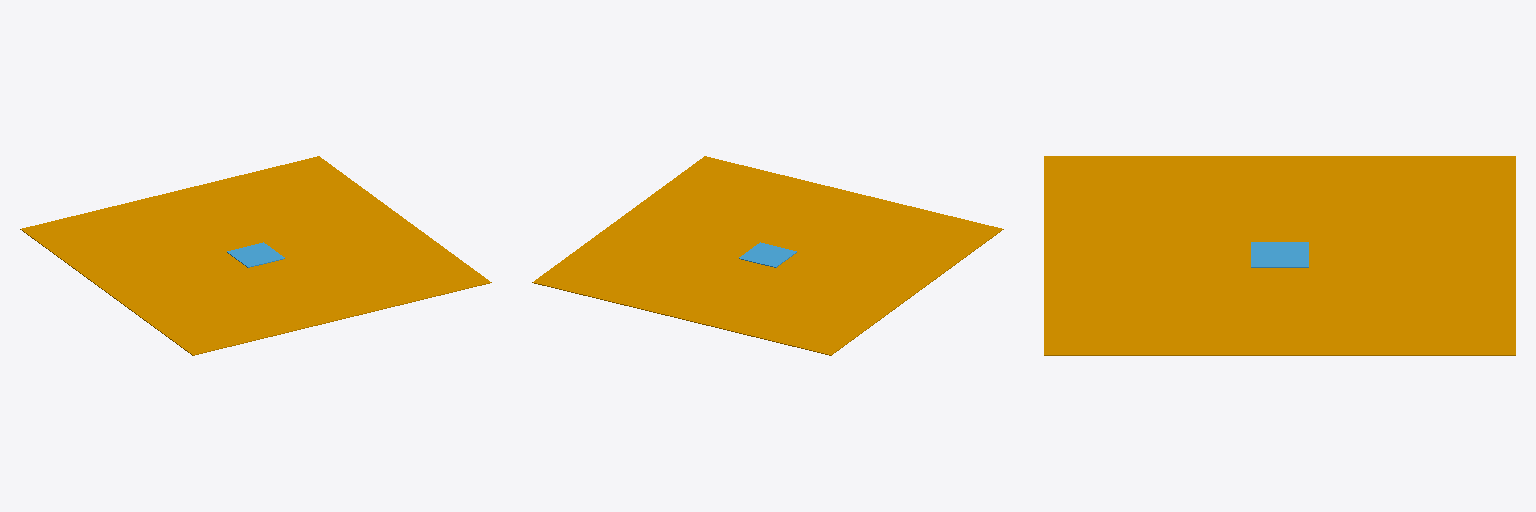
URDF robot description (simple_box):
<robot name="simple_box">
  <link name="my_box">
    <inertial>
      <origin xyz="5 0 0" /> 
      <mass value="1.0" />
      <inertia  ixx="1.0" ixy="0.0"  ixz="0.0"  iyy="100.0"  iyz="0.0"  izz="1.0" />
    </inertial>
    <visual>
      <origin xyz="5 0 0"/>
      <geometry>
        <box size="4 4 0.01" />
      </geometry>
    </visual>
    <collision>
      <origin xyz="5 0 0"/>
      <geometry>
        <box size="4 4 0.01" />
      </geometry>
    </collision>
  </link>
  <joint name="artag" type="fixed">
  	
	<parent link="my_box"/>
	<child link="artag_link"/>
	<origin xyz="5 0 0.01"/>
  </joint>
    <link name="artag_link">
    <inertial>
      <origin xyz="0 0 0" /> 
      <mass value="0.0001" />
      <inertia  ixx="0.0001" ixy="0.0"  ixz="0.0"  iyy="0.00001"  iyz="0.0"  izz="0.00001" />
    </inertial>
    <visual>
      <origin xyz="0 0 0"/>
      <geometry>
        <box size="0.5 0.5 0.01" />
      </geometry>
    </visual>
    <collision>
      <origin xyz="0 0 0"/>
      <geometry>
        <box size="0.5 0.5 0.01" />
      </geometry>
    </collision>
  </link>
  <gazebo reference="artag_link">
    <material>custom_objects_gazebo/artag</material>
    <turnGravityOff>False</turnGravityOff>
  </gazebo>
  <gazebo reference="my_box">
    <material>Gazebo/White</material>
    <turnGravityOff>False</turnGravityOff>
  </gazebo>
</robot>

--- What the picture shows (computed from the rendered views, not written in the file) ---
The picture shows the robot from 3 angles, left to right: view 1: azimuth 30°, elevation 25°; view 2: azimuth 150°, elevation 25°; view 3: azimuth 270°, elevation 25°; orthographic projection.
Robot: simple_box — 2 links, 1 joints (1 fixed); root link my_box; default pose: every joint at zero.
Links seen in each view (by area): view 1: my_box, artag_link; view 2: my_box, artag_link; view 3: my_box, artag_link.
Boxes of the visible links, x1=… form: my_box: x1=20, y1=156, x2=491, y2=355; artag_link: x1=227, y1=242, x2=284, y2=267; my_box: x1=532, y1=156, x2=1003, y2=355; artag_link: x1=739, y1=242, x2=796, y2=267; my_box: x1=1044, y1=156, x2=1515, y2=355; artag_link: x1=1251, y1=242, x2=1308, y2=267.
Bounding box of the posed robot: 4 × 4 × 0.02 m (x, y, z).
Geometry: primitives only (box / cylinder / sphere), no mesh files.